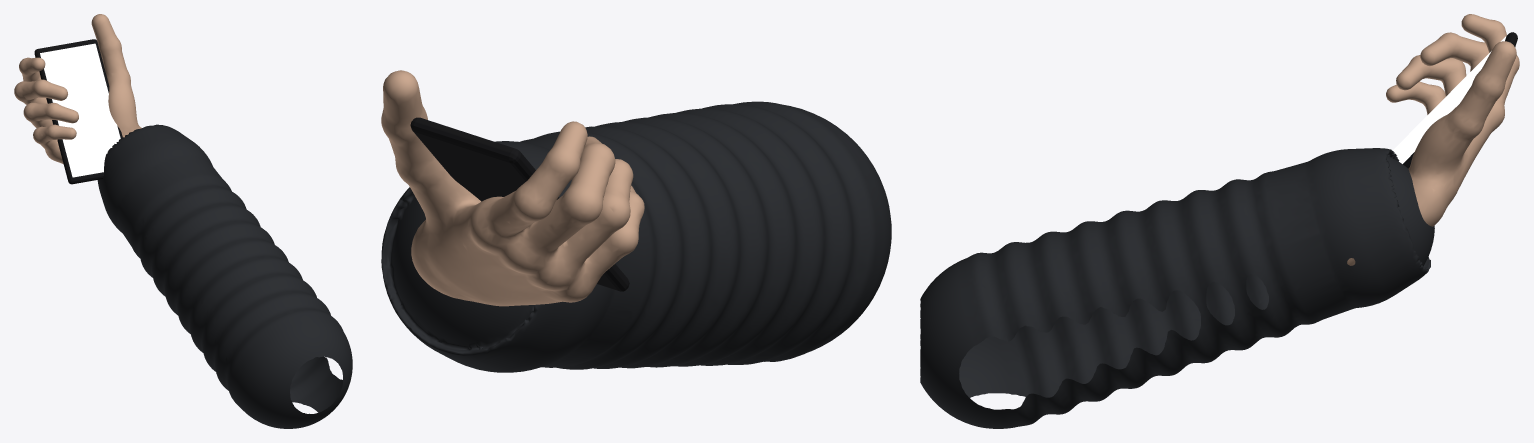
The model's file is his_right_phone.glb.
The picture shows the model from 3 angles, left to right: view 1: azimuth 30°, elevation 25°; view 2: azimuth 150°, elevation 25°; view 3: azimuth 270°, elevation 25°; orthographic projection. The views are drawn at different scales.
Parts seen in each view (by area): view 1: his_right_phone, phone_screen, phone; view 2: his_right_phone, phone; view 3: his_right_phone, phone_screen.
Boxes of the visible parts, box(x1,y1,x2,y2) form: his_right_phone: box(14, 14, 352, 428); phone_screen: box(40, 43, 120, 177); phone: box(34, 39, 122, 184); his_right_phone: box(381, 70, 891, 372); phone: box(410, 117, 629, 291); his_right_phone: box(920, 14, 1519, 428); phone_screen: box(1392, 36, 1506, 163).
Size of the model in its own units: 0.1815 by 0.3125 by 0.4629.
